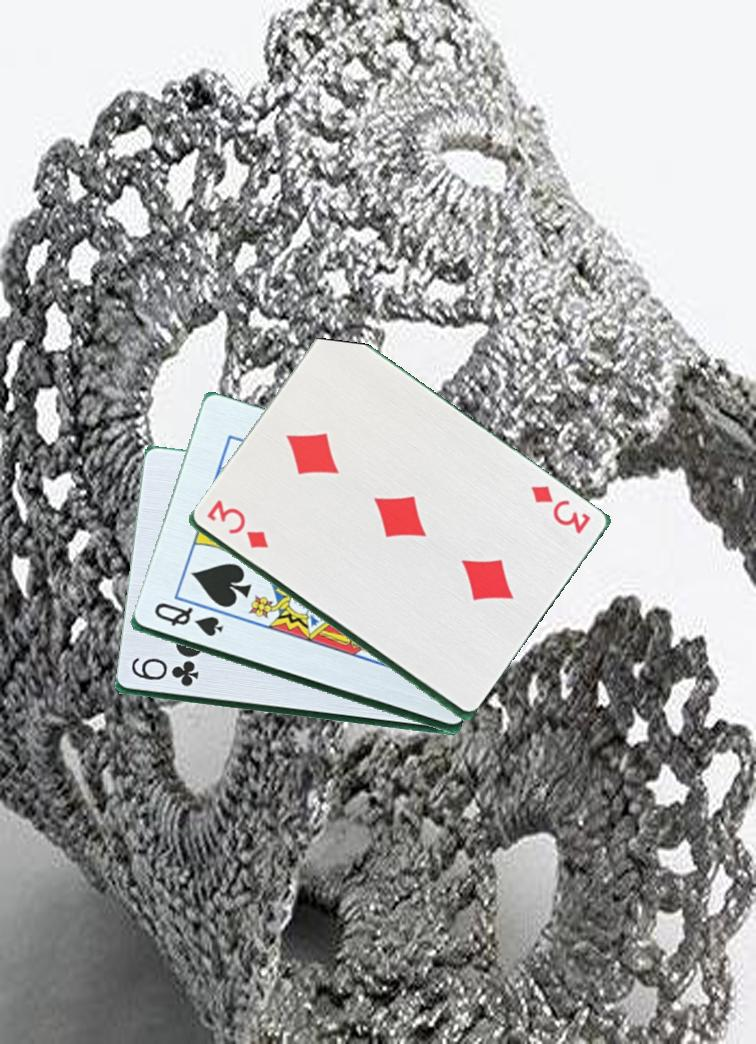3d: (526, 481, 593, 537), (202, 498, 271, 552)
6c: (127, 658, 201, 690)
qs: (150, 599, 225, 640)
